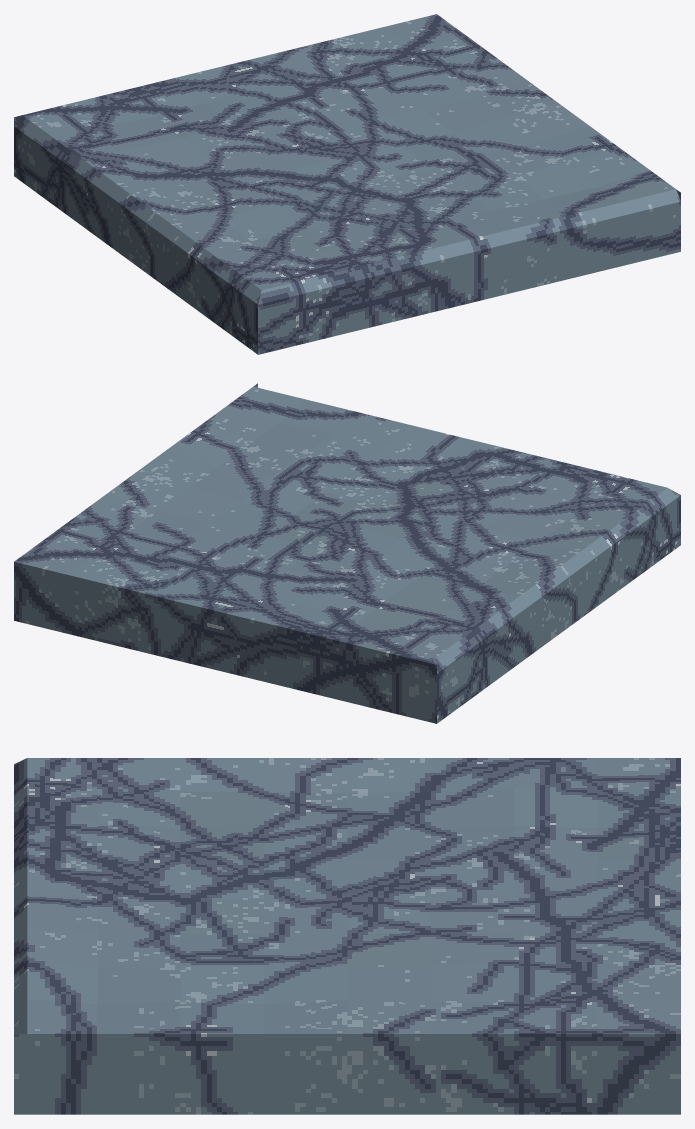
File: TER-02_Losa_esquina.gltf
3 renders of one model, top to bottom at view 1: azimuth 30°, elevation 25°; view 2: azimuth 150°, elevation 25°; view 3: azimuth 270°, elevation 25°, orthographic. The views are drawn at different scales.
Parts seen in each view (by area): view 1: TER-02_Losa_esquina-col; view 2: TER-02_Losa_esquina-col; view 3: TER-02_Losa_esquina-col.
Part boxes in pixels (x1=…): TER-02_Losa_esquina-col: x1=14, y1=14, x2=680, y2=354; TER-02_Losa_esquina-col: x1=14, y1=383, x2=680, y2=723; TER-02_Losa_esquina-col: x1=14, y1=758, x2=680, y2=1114.
Size of the model in its own units: 3 by 0.4 by 3.
1 material, 1 textured.
